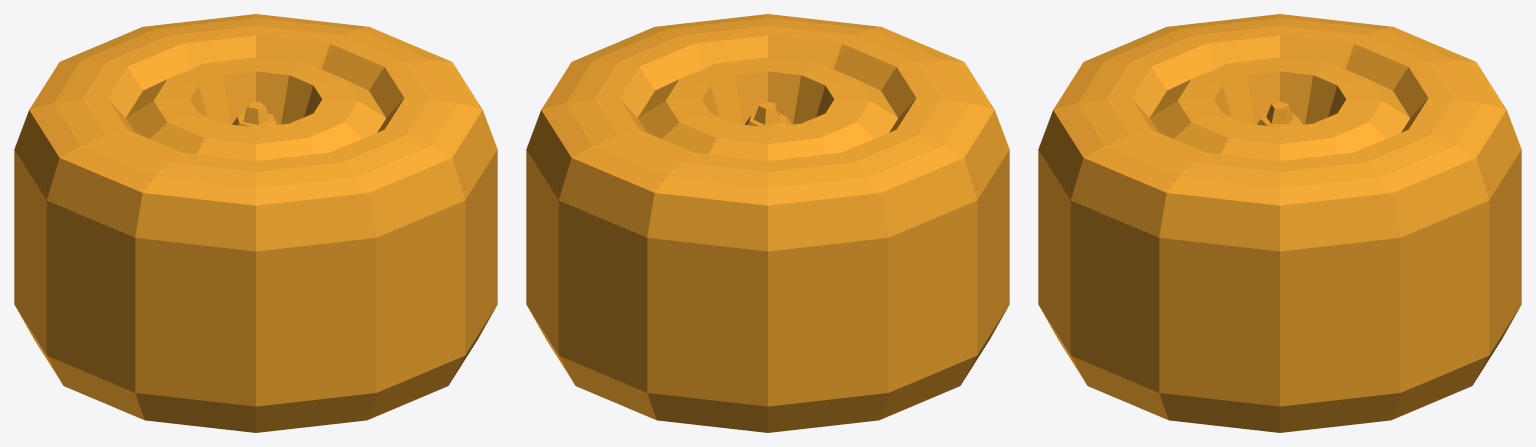
Rendered from SM_Wheel_Single_Racing_Formula.fbx.
3 renders of one model, left to right at view 1: azimuth 30°, elevation 25°; view 2: azimuth 150°, elevation 25°; view 3: azimuth 270°, elevation 25°, orthographic.
Visible parts, largest first — view 1: SM_Wheel_Single_Racing_Formula; view 2: SM_Wheel_Single_Racing_Formula; view 3: SM_Wheel_Single_Racing_Formula.
Boxes of the visible parts, left/top/right/bottom form: SM_Wheel_Single_Racing_Formula: left=14, top=14, right=497, bottom=432; SM_Wheel_Single_Racing_Formula: left=526, top=14, right=1009, bottom=432; SM_Wheel_Single_Racing_Formula: left=1038, top=14, right=1521, bottom=432.
Bounding box in the file's own units: 0.7193 × 0.3957 × 0.7193.
